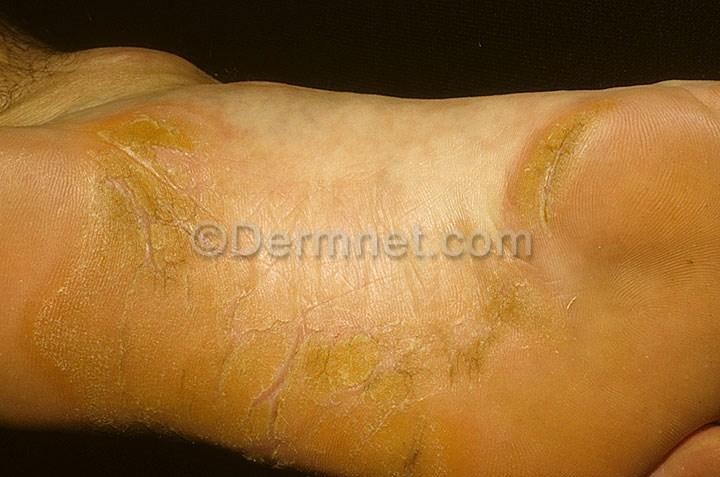Eczema: (31, 317, 311, 430), (511, 93, 704, 244), (329, 282, 449, 476), (82, 104, 267, 217), (460, 267, 577, 388), (71, 224, 190, 323)
